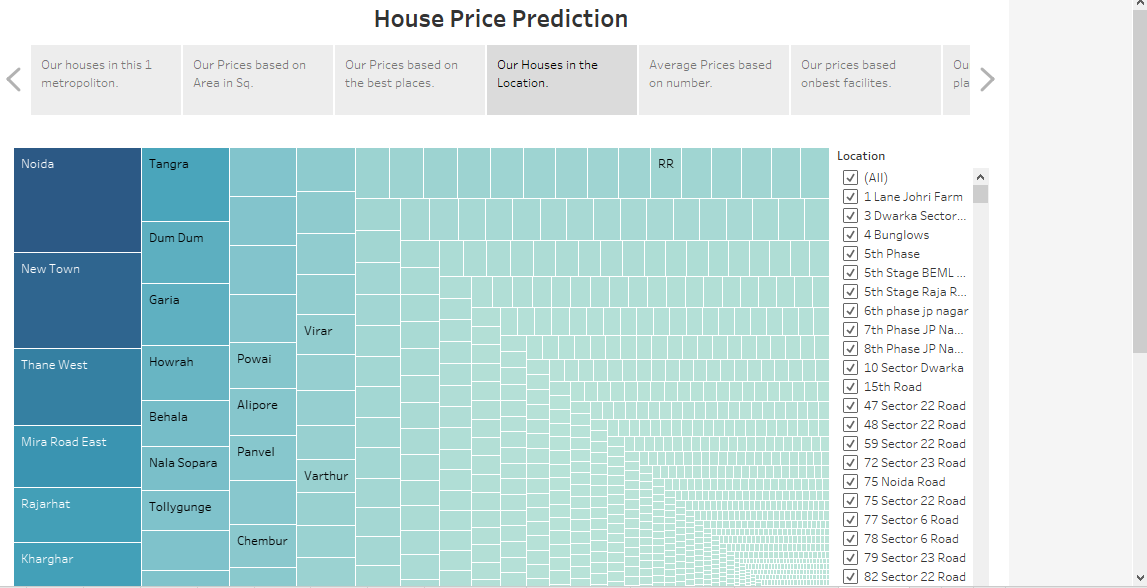

Layout of this report page (visuals, bound fields, positions):
{"tool":"tableau","page":{"name":"Dashboard 4","canvas":[1000,800],"ordinal":3},"visuals":[{"type":"worksheet","title":"Sheet 8","mark":"Automatic","rows":["Location"],"cols":["Price","Calculation_1096063561565847552","Intercom"],"box":[8,8,824,784]},{"type":"legend","title":"Sheet 8","param":"[federated.1i14un80v36d5i1akako61g8pi19].[sum:Price:qk]","box":[832,8,160,65]},{"type":"legend","title":"Sheet 8","param":"[federated.1i14un80v36d5i1akako61g8pi19].[sum:Intercom:qk]","box":[832,73,160,65]},{"type":"legend","title":"Sheet 8","param":"[federated.1i14un80v36d5i1akako61g8pi19].[none:Location:nk]","box":[832,138,160,226]}]}

Visuals, with their boxes on the page's 1000x800 design canvas (x1, y1, x2, y2). These are canvas units, not pixel positions in the 1147x588 screenshot, which may show the page scaled, cropped or inside an application window:
"Sheet 8" worksheet: x1=8, y1=8, x2=832, y2=792
"Sheet 8" legend: x1=832, y1=8, x2=992, y2=73
"Sheet 8" legend: x1=832, y1=73, x2=992, y2=138
"Sheet 8" legend: x1=832, y1=138, x2=992, y2=364
